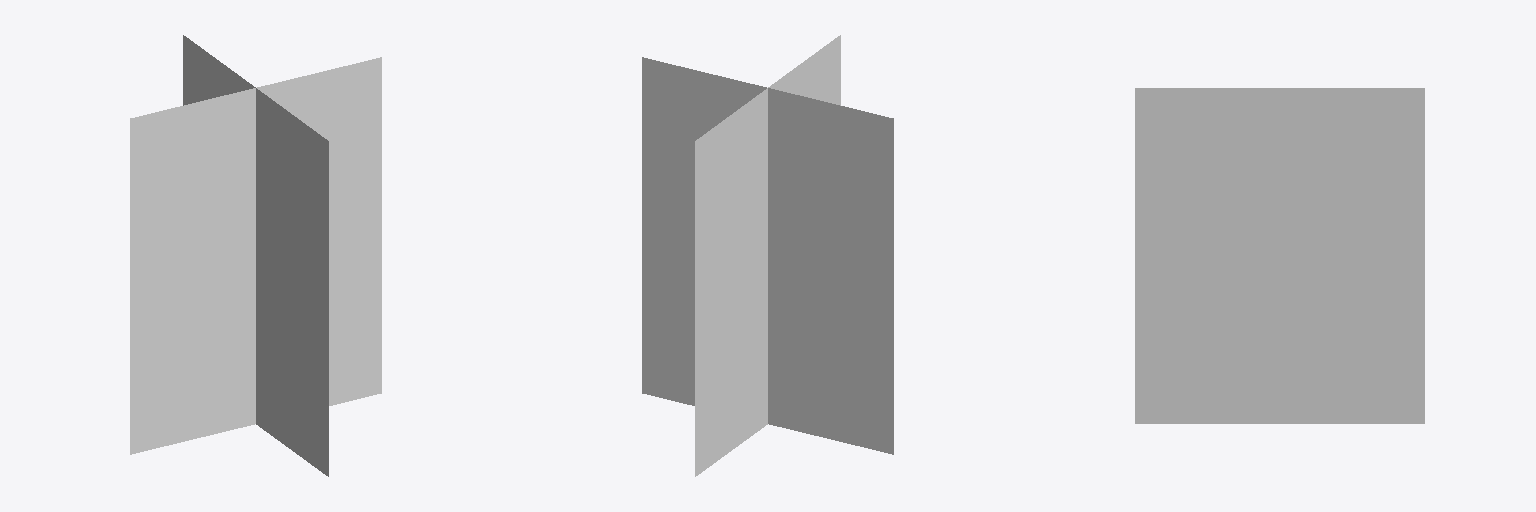
File: Orange_Tree_Fan_0.obj
The picture shows the model from 3 angles: view 1: azimuth 30°, elevation 25°; view 2: azimuth 150°, elevation 25°; view 3: azimuth 270°, elevation 25°; orthographic projection.
Parts seen in each view (by area): view 1: CreateFan; view 2: CreateFan; view 3: CreateFan.
Part boxes in pixels (x1,y1,x2,y2): CreateFan: (130,35,381,476); CreateFan: (642,35,893,476); CreateFan: (1135,88,1424,423).
Size of the model in its own units: 7.04 by 9 by 7.04.